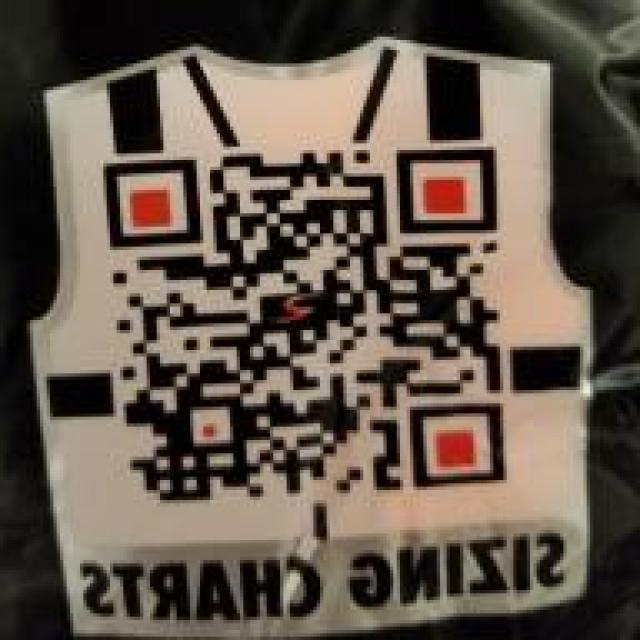QR_CODE: (73, 127, 547, 513)
